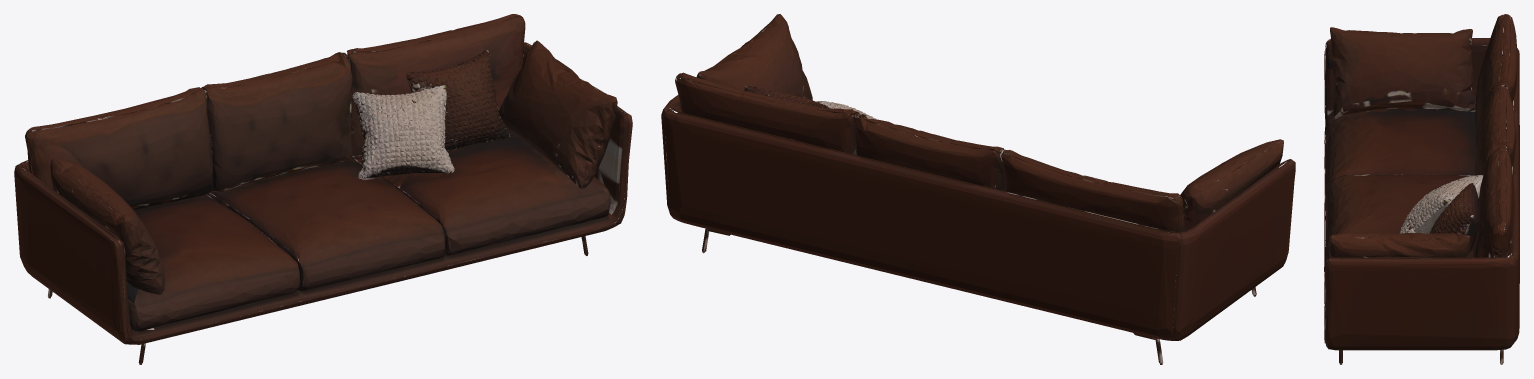
The model's file is edited_mesh.glb.
3 views of the same model, side by side, from view 1: azimuth 30°, elevation 25°; view 2: azimuth 150°, elevation 25°; view 3: azimuth 270°, elevation 25° (orthographic). The views are drawn at different scales.
Parts seen in each view (by area): view 1: solid_001_wire; view 2: solid_001_wire; view 3: solid_001_wire.
Part boxes in pixels (x1=…): solid_001_wire: x1=14, y1=14, x2=632, y2=364; solid_001_wire: x1=661, y1=14, x2=1295, y2=364; solid_001_wire: x1=1324, y1=14, x2=1519, y2=364.
Size of the model in its own units: 2 by 0.6387 by 0.7369.
1 material, 1 textured.
